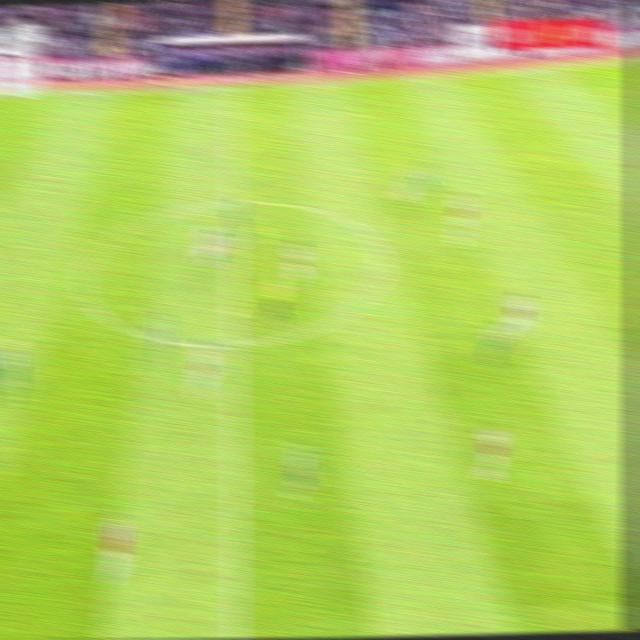halfcircle_bottom: (220, 329, 250, 358)
halfcircle_top: (220, 190, 248, 213)
midline_top_intersection: (221, 75, 246, 97)
